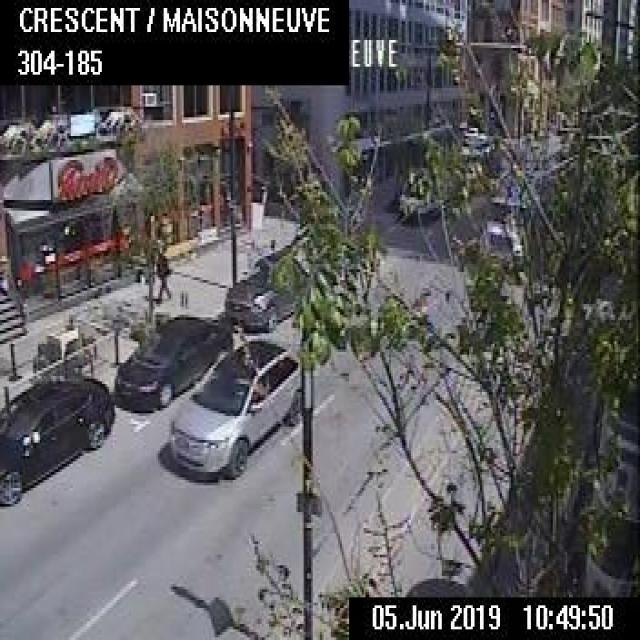pedestrian: (154, 240, 171, 304)
vehicle: (168, 338, 301, 476), (0, 368, 115, 507), (469, 138, 578, 267), (113, 311, 231, 409), (224, 253, 309, 329), (458, 128, 490, 166)
